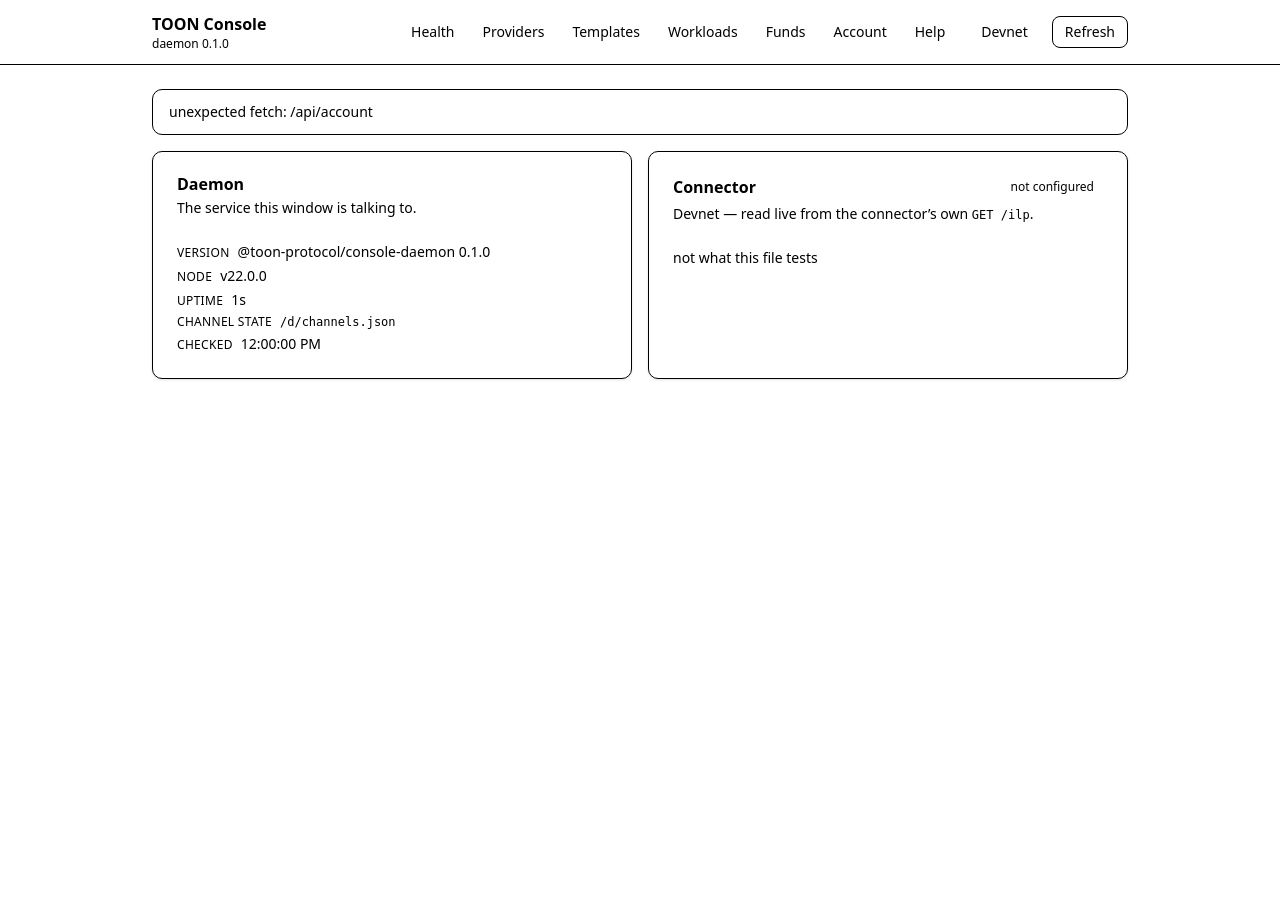
Test: browsing the Provider Directory › shows a provider with its tiers, its price per Lease Interval and its liveness
Check: the text "daemon 0.1.0" is shown, box [152, 35, 229, 52]
Click the button "Providers": (513, 32) [470, 16, 556, 48]
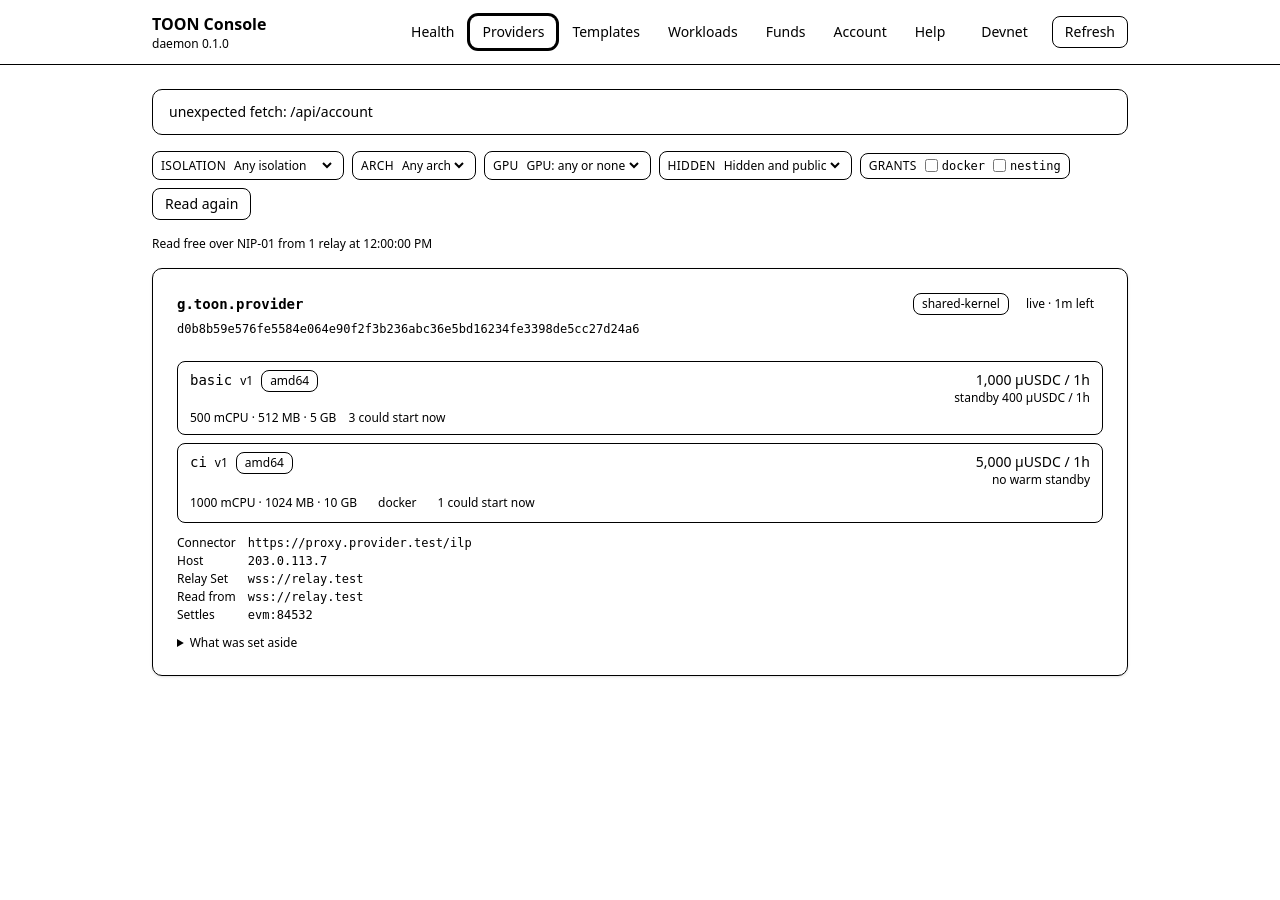
Check: the text "g.toon.provider" is shown, box [177, 294, 303, 314]
Check: the text "basic" is shown, box [190, 370, 232, 390]
Check: the text "ci" is shown, box [190, 452, 207, 472]
